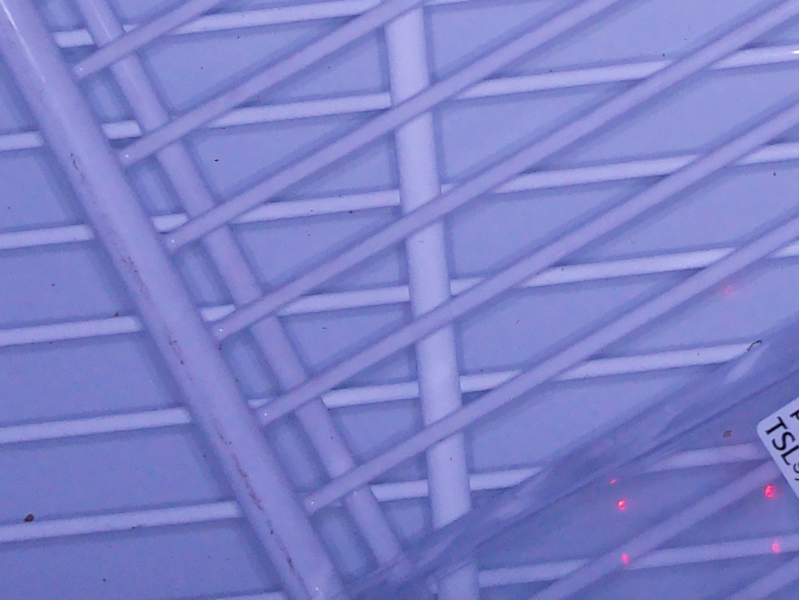plate: (323, 330, 799, 600)
